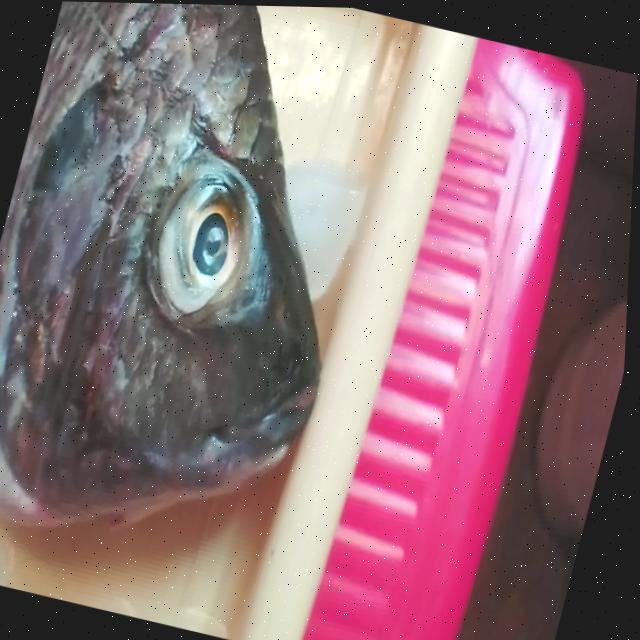Fresh: (140, 147, 280, 342)
